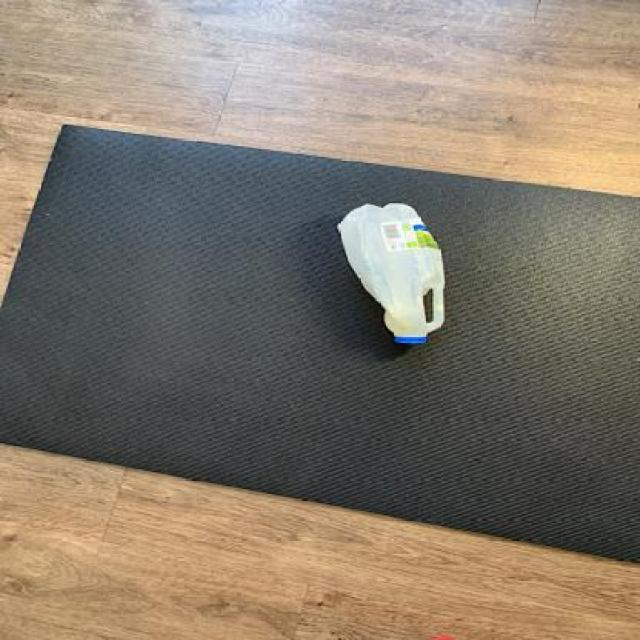trash: (329, 204, 453, 350)
